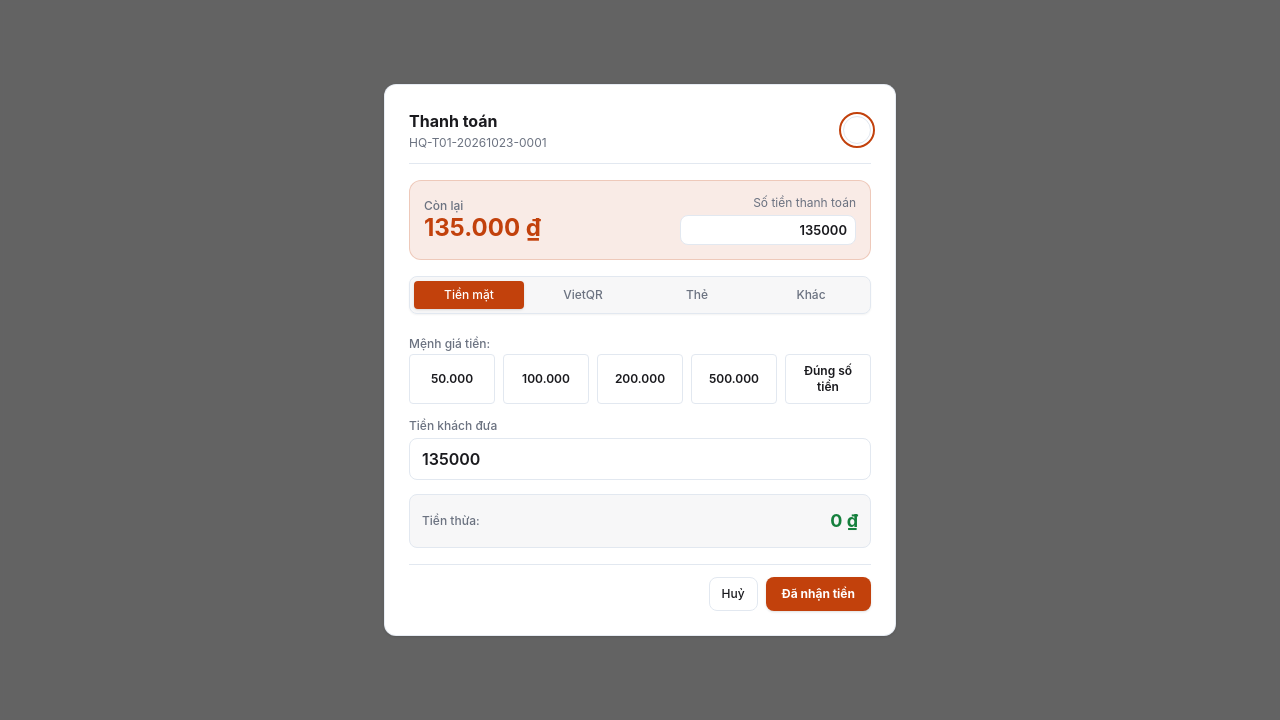
Test: PaymentModal.vue › Cash Tab & Keypad › disables confirm button when cash tendered is less than amount to pay
Replace the text in the field below "Tiền khách đưa" with "100000" at (640, 459), box [409,438,871,480]
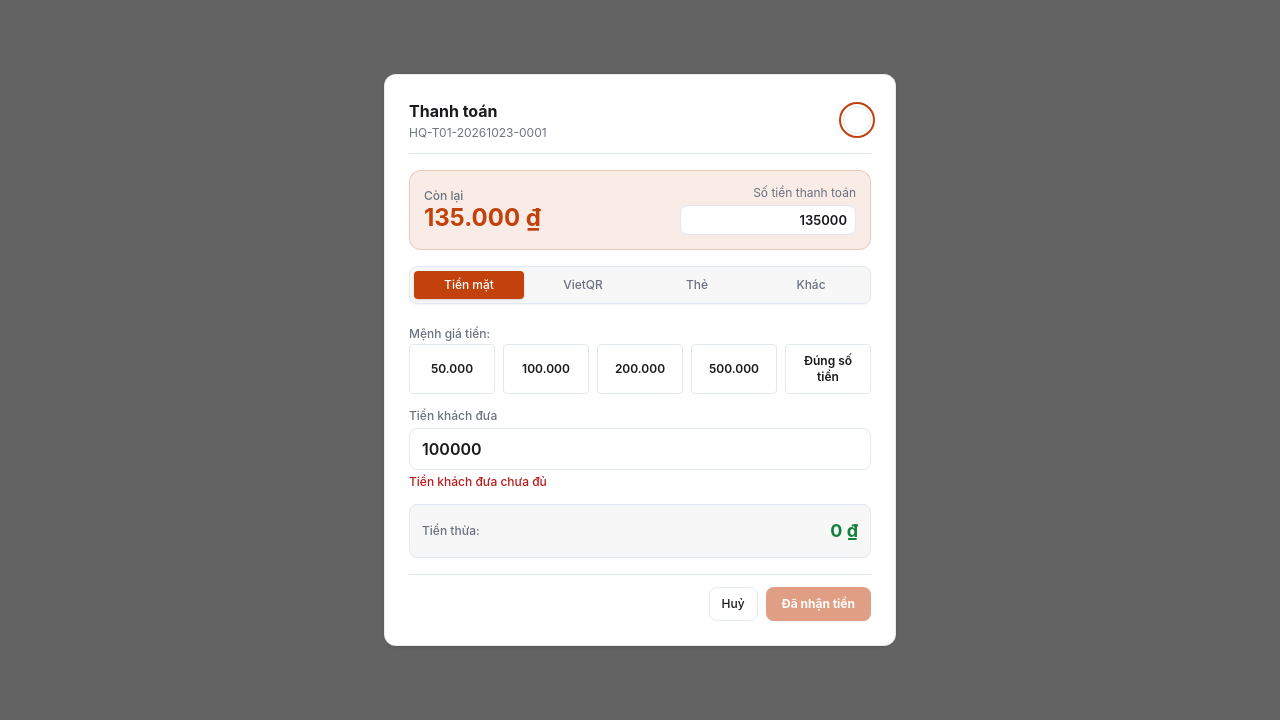
Now the text "Tiền khách đưa chưa đủ" is shown, box [409,474,547,489]
Now the button with test id "confirm-payment-btn" is disabled, box [766,587,871,621]
